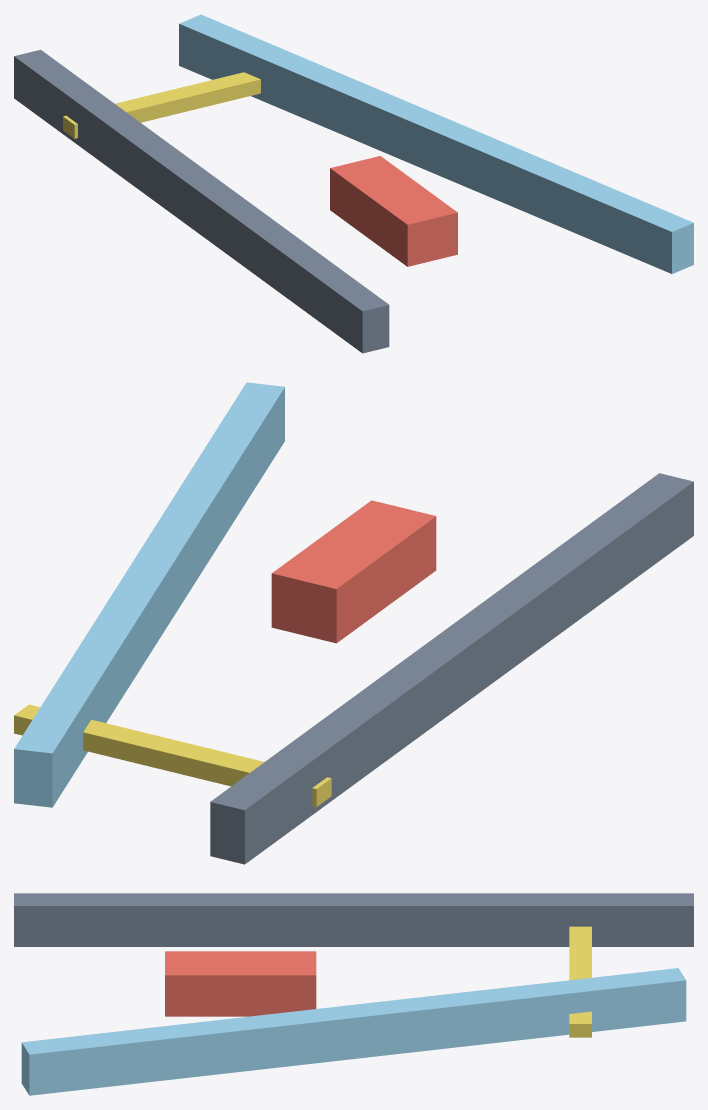
Rendered from railway_turnout_points_crossing.glb.
The picture shows the model from 3 angles, top to bottom: view 1: azimuth 30°, elevation 25°; view 2: azimuth 150°, elevation 25°; view 3: azimuth 270°, elevation 25°; orthographic projection. The views are drawn at different scales.
Parts seen in each view (by area): view 1: DivergingTurnoutBranchCurvedRails, StraightThroughMainTrackRails, AcuteAngleCrossingVeeNosePoint, SwitchTongueRailsStretcherBar; view 2: StraightThroughMainTrackRails, DivergingTurnoutBranchCurvedRails, AcuteAngleCrossingVeeNosePoint, SwitchTongueRailsStretcherBar; view 3: StraightThroughMainTrackRails, DivergingTurnoutBranchCurvedRails, AcuteAngleCrossingVeeNosePoint, SwitchTongueRailsStretcherBar.
Boxes of the visible parts, x1,y1,x2,y2 form: DivergingTurnoutBranchCurvedRails: (179, 14, 693, 273); StraightThroughMainTrackRails: (14, 49, 389, 353); AcuteAngleCrossingVeeNosePoint: (330, 156, 457, 266); SwitchTongueRailsStretcherBar: (63, 72, 260, 138); StraightThroughMainTrackRails: (210, 473, 693, 864); DivergingTurnoutBranchCurvedRails: (14, 382, 284, 807); AcuteAngleCrossingVeeNosePoint: (271, 500, 436, 643); SwitchTongueRailsStretcherBar: (14, 704, 331, 807); StraightThroughMainTrackRails: (14, 893, 693, 946); DivergingTurnoutBranchCurvedRails: (21, 968, 686, 1095); AcuteAngleCrossingVeeNosePoint: (165, 951, 316, 1016); SwitchTongueRailsStretcherBar: (569, 926, 591, 1037).
Bounding box in the file's own units: 1.02 × 0.12 × 1.8.
